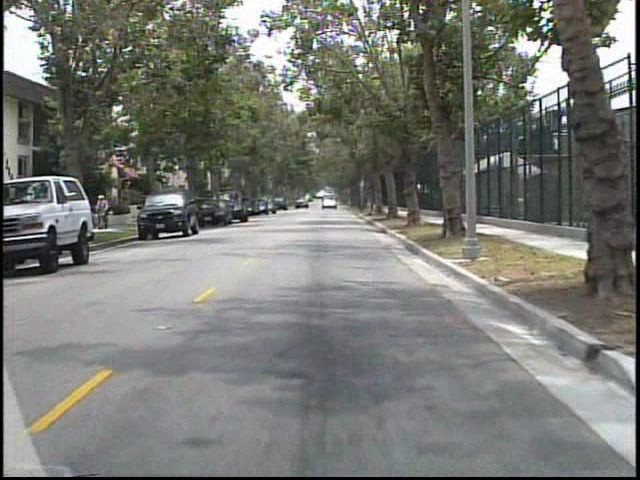person: (96, 193, 116, 234)
